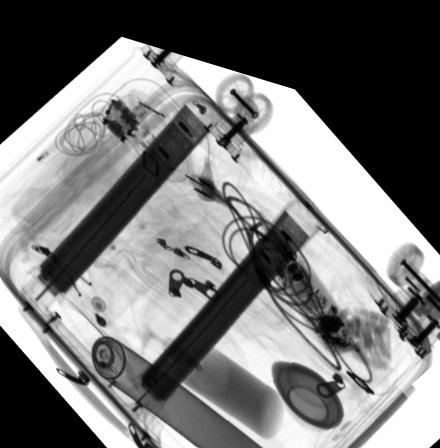Sprayer: (65, 313, 283, 448)
